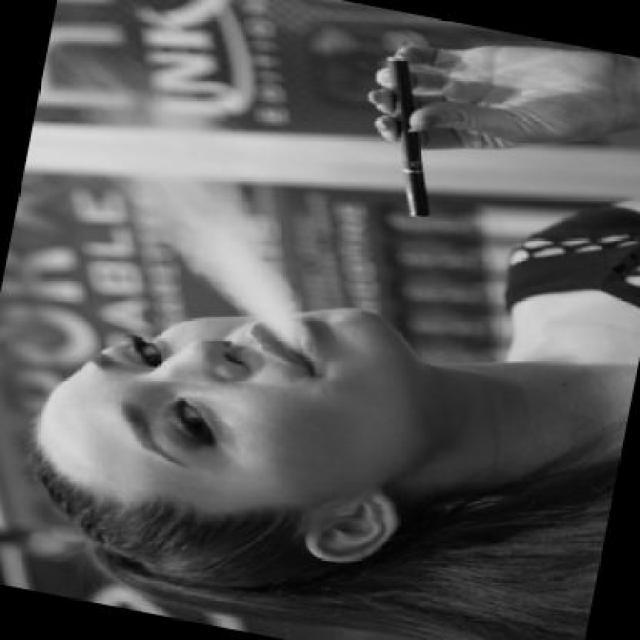cigarette: (355, 50, 460, 218)
